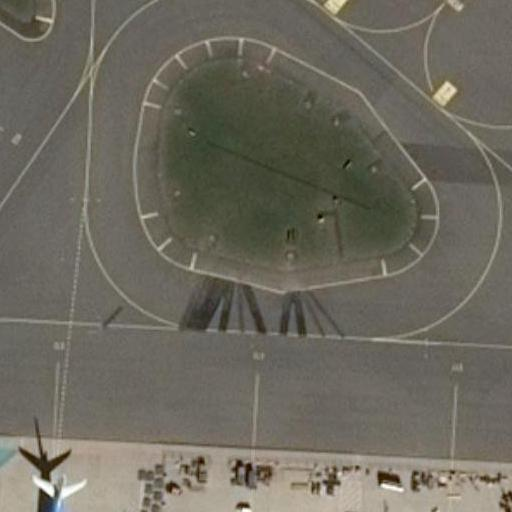Aircraft: (0, 464, 139, 512)
